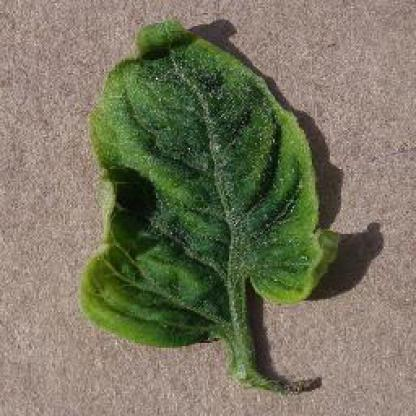bad leaf: (71, 22, 356, 394)
